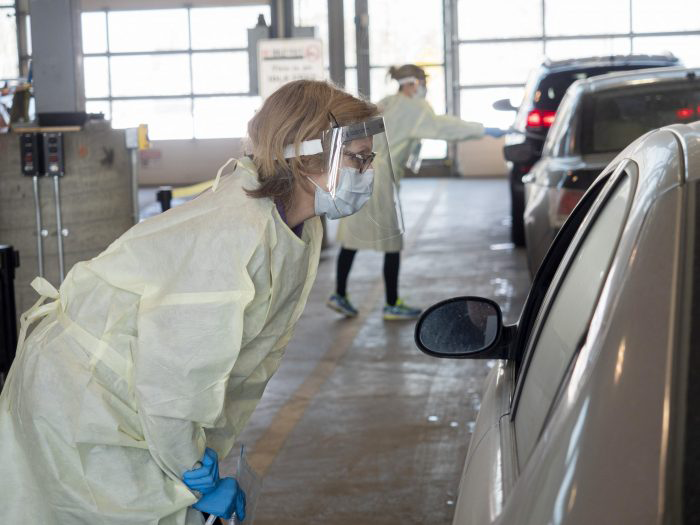Coverall: (7, 182, 306, 525)
Gloves: (177, 444, 219, 493)
with_mask: (314, 133, 375, 220)
